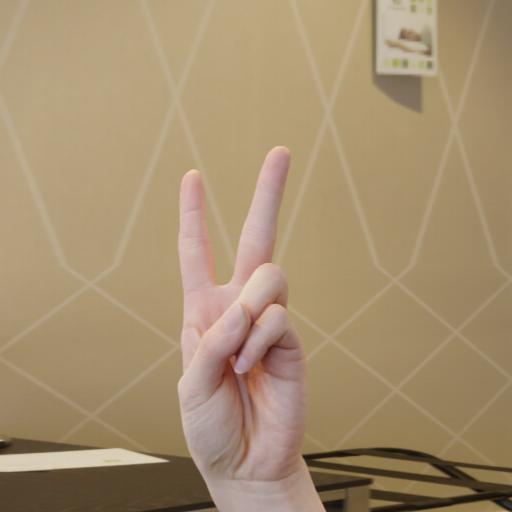V: (144, 121, 328, 498)
